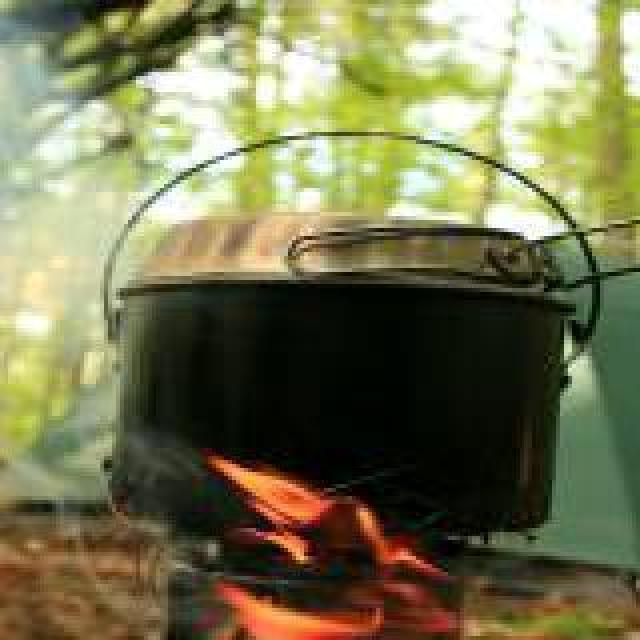fire: (196, 452, 584, 640), (0, 0, 120, 320)
